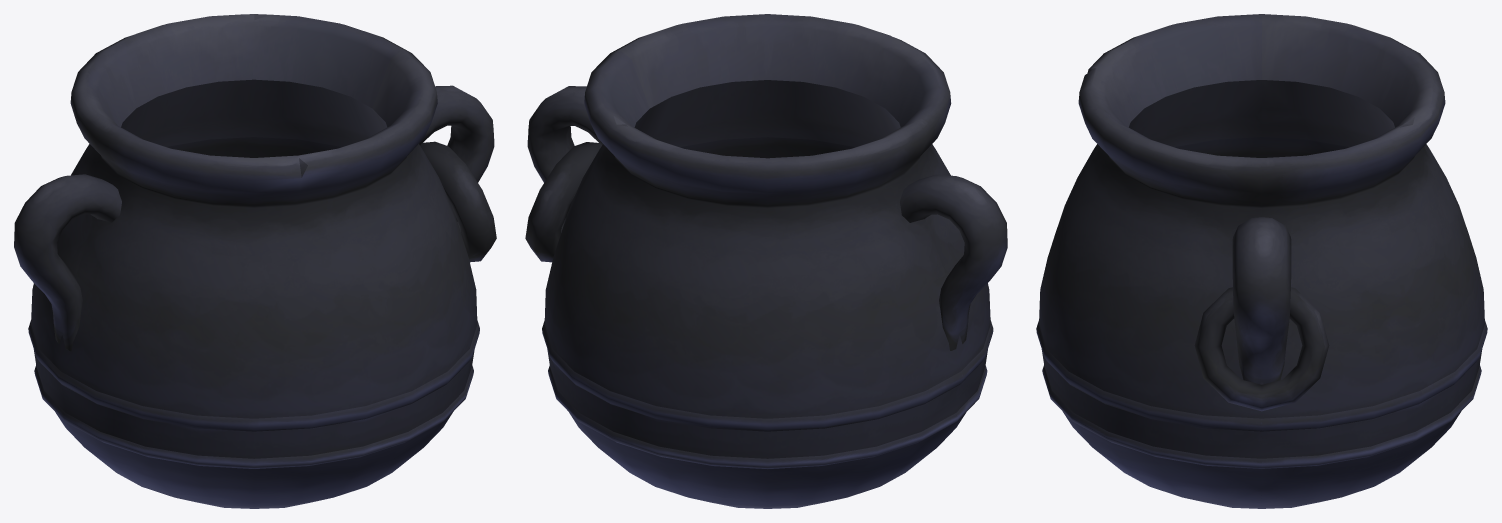
Rendered from Caldron.fbx.
3 views of the same model, side by side, from view 1: azimuth 30°, elevation 25°; view 2: azimuth 150°, elevation 25°; view 3: azimuth 270°, elevation 25° (orthographic).
Visible parts, largest first — view 1: eyeballCauldron_0; view 2: eyeballCauldron_0; view 3: eyeballCauldron_0.
Part boxes in pixels (x1,y1,x2,y2): eyeballCauldron_0: (14, 14, 496, 508); eyeballCauldron_0: (525, 14, 1007, 508); eyeballCauldron_0: (1036, 14, 1487, 508).
Bounding box in the file's own units: 59.81 × 47.81 × 49.57.
